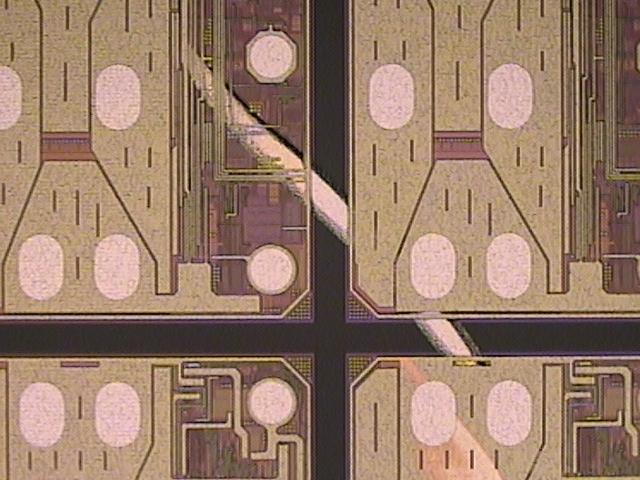BLOCK ETCH: (162, 23, 500, 480)
